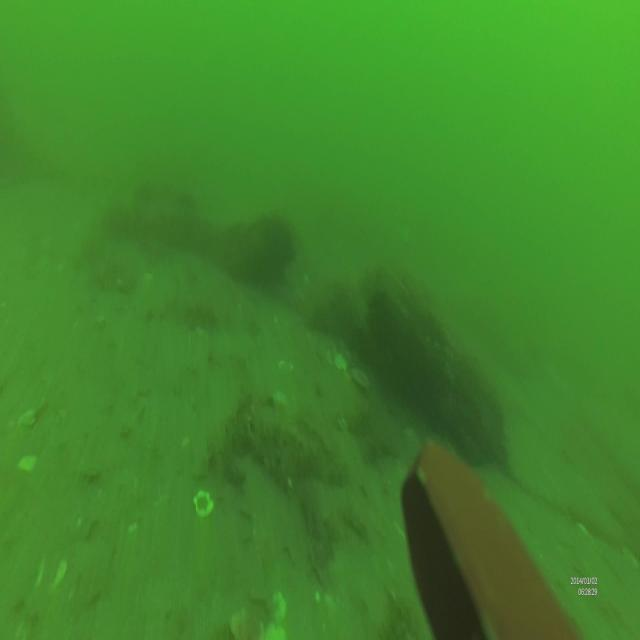holothurian: (237, 409, 341, 498)
